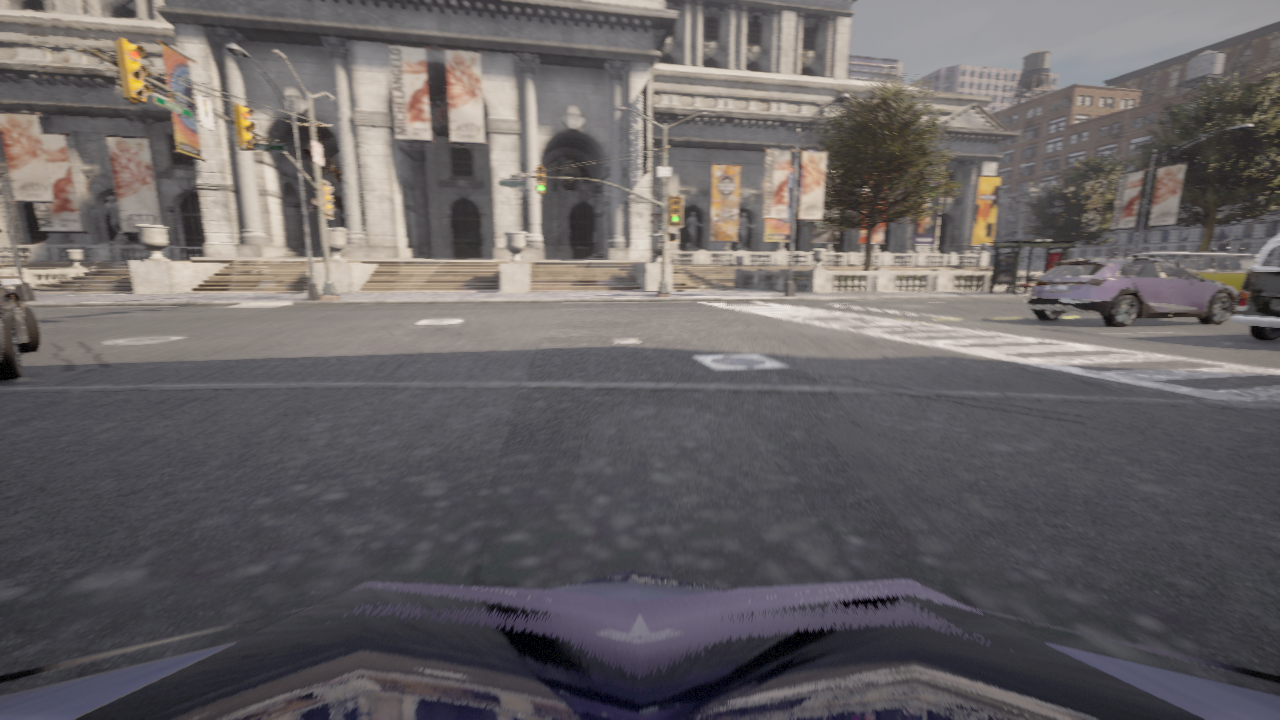cyclist: (0, 569, 1279, 719), (1025, 256, 1239, 327), (1128, 251, 1258, 293), (1230, 233, 1279, 340)
